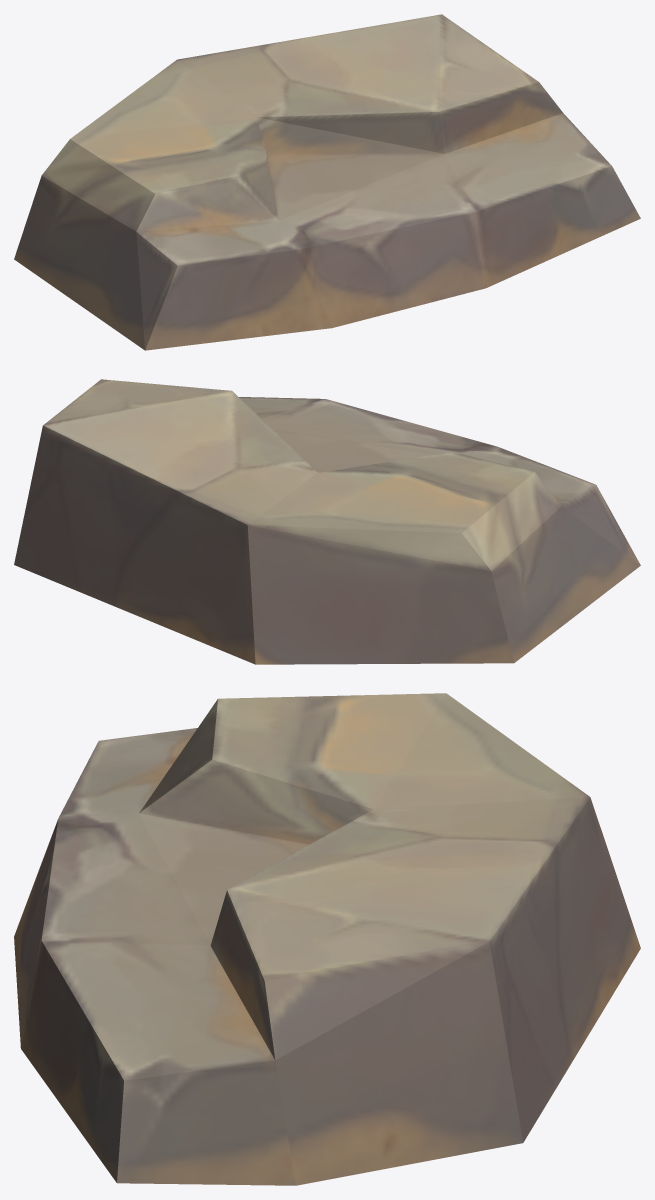
The model's file is map_7004_tz_03.FBX.
3 views of the same model, one above another, from view 1: azimuth 30°, elevation 25°; view 2: azimuth 150°, elevation 25°; view 3: azimuth 270°, elevation 25° (orthographic). The views are drawn at different scales.
Parts seen in each view (by area): view 1: map_7004_tz_03; view 2: map_7004_tz_03; view 3: map_7004_tz_03.
Boxes of the visible parts, x1,y1,x2,y2 form: map_7004_tz_03: (14,14,640,350); map_7004_tz_03: (14,379,640,664); map_7004_tz_03: (14,693,640,1185).
Bounding box in the file's own units: 4.86 × 1.16 × 3.48.
